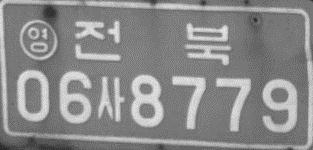0: (15, 68, 51, 123)
6: (58, 72, 92, 124)
7: (170, 73, 207, 131), (215, 76, 252, 132)
8: (129, 73, 165, 128)
9: (260, 78, 298, 134)
사: (96, 76, 124, 124)
영: (18, 19, 58, 61)
전북_D: (73, 20, 232, 66)
